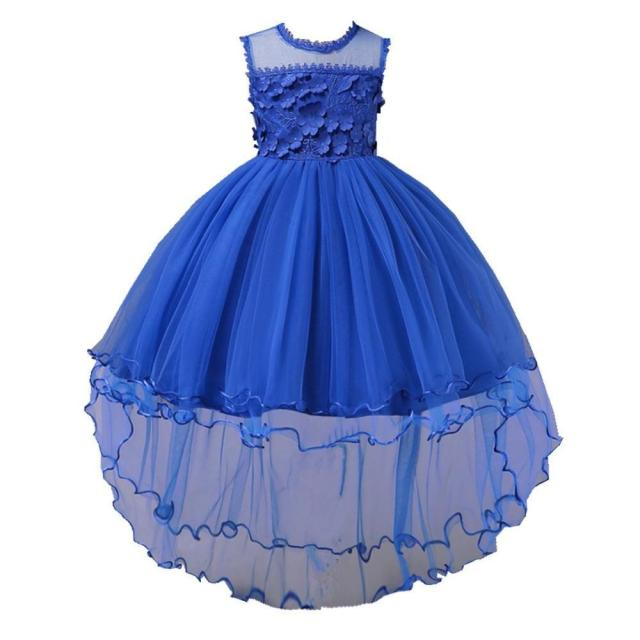Dress: (82, 18, 566, 611)
